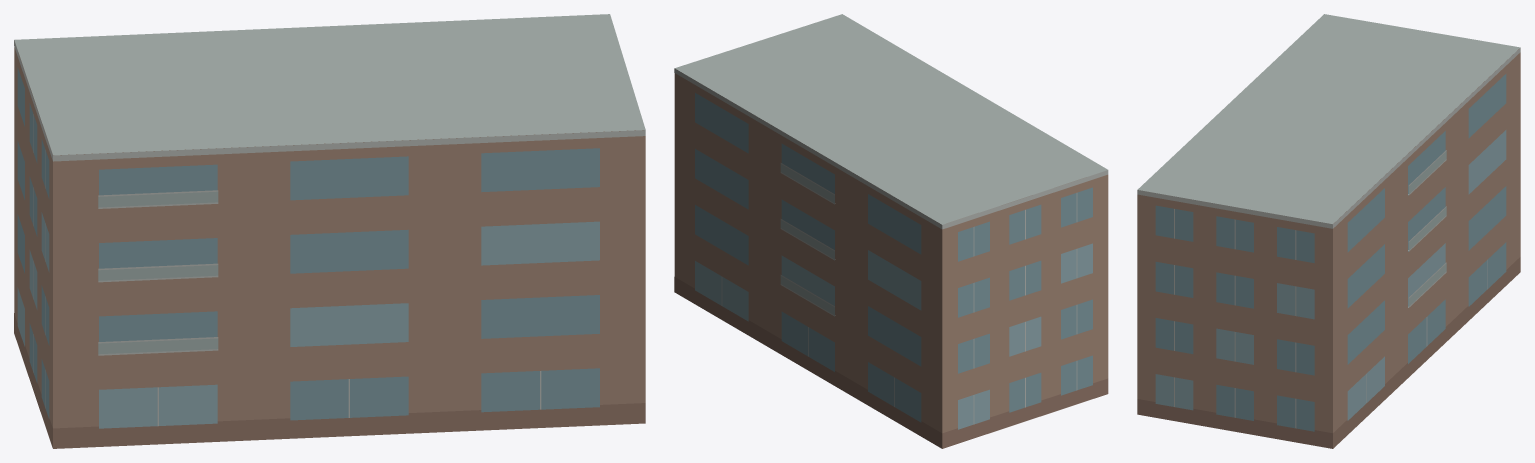
The model's file is survey-upis-32962400.glb.
The picture shows the model from 3 angles, left to right: view 1: azimuth 30°, elevation 25°; view 2: azimuth 150°, elevation 25°; view 3: azimuth 270°, elevation 25°; orthographic projection. The views are drawn at different scales.
Visible parts, largest first — view 1: survey-upis-32962400.tmp; view 2: survey-upis-32962400.tmp; view 3: survey-upis-32962400.tmp.
Part boxes in pixels (bbox=[...]): survey-upis-32962400.tmp: bbox=[14, 14, 645, 448]; survey-upis-32962400.tmp: bbox=[674, 14, 1108, 448]; survey-upis-32962400.tmp: bbox=[1137, 14, 1520, 448].
Bounding box in the file's own units: 23.69 × 11.8 × 18.25.
